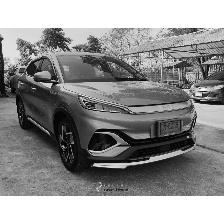EV: (16, 49, 200, 174)
